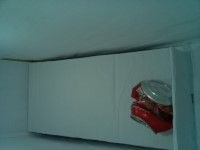kaleng: (129, 80, 172, 135)
